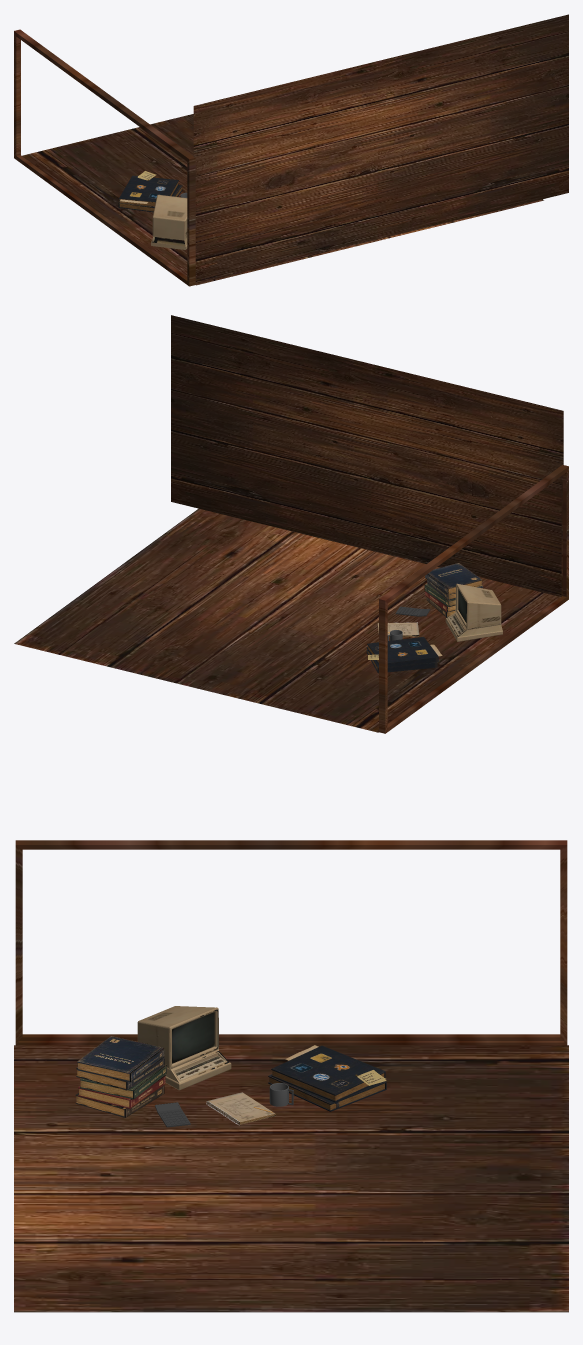
File: 01-CURIOSITY-transformed.glb
The picture shows the model from 3 angles, top to bottom: view 1: azimuth 30°, elevation 25°; view 2: azimuth 150°, elevation 25°; view 3: azimuth 270°, elevation 25°; orthographic projection. The views are drawn at different scales.
Parts seen in each view (by area): view 1: Frame, Floor, PC, BooksForStickers; view 2: Frame, Floor, PC, Book, BooksForStickers; view 3: Floor, Frame, Book, PC, BooksForStickers, Paper.
Part boxes in pixels (bbox=[...]): Frame: bbox=[14, 14, 568, 286]; Floor: bbox=[21, 114, 543, 285]; PC: bbox=[151, 194, 187, 249]; BooksForStickers: bbox=[118, 175, 182, 212]; Frame: bbox=[171, 315, 568, 733]; Floor: bbox=[14, 508, 560, 732]; PC: bbox=[445, 583, 502, 641]; Book: bbox=[424, 563, 483, 617]; BooksForStickers: bbox=[366, 636, 442, 673]; Floor: bbox=[14, 1045, 568, 1312]; Frame: bbox=[15, 840, 567, 1045]; Book: bbox=[75, 1036, 166, 1117]; PC: bbox=[137, 1006, 231, 1090]; BooksForStickers: bbox=[268, 1045, 386, 1111]; Paper: bbox=[207, 1092, 275, 1124].
Bounding box in the file's own units: 4.42 × 1.99 × 3.55.
Materials: 8 (5 with a texture image).
